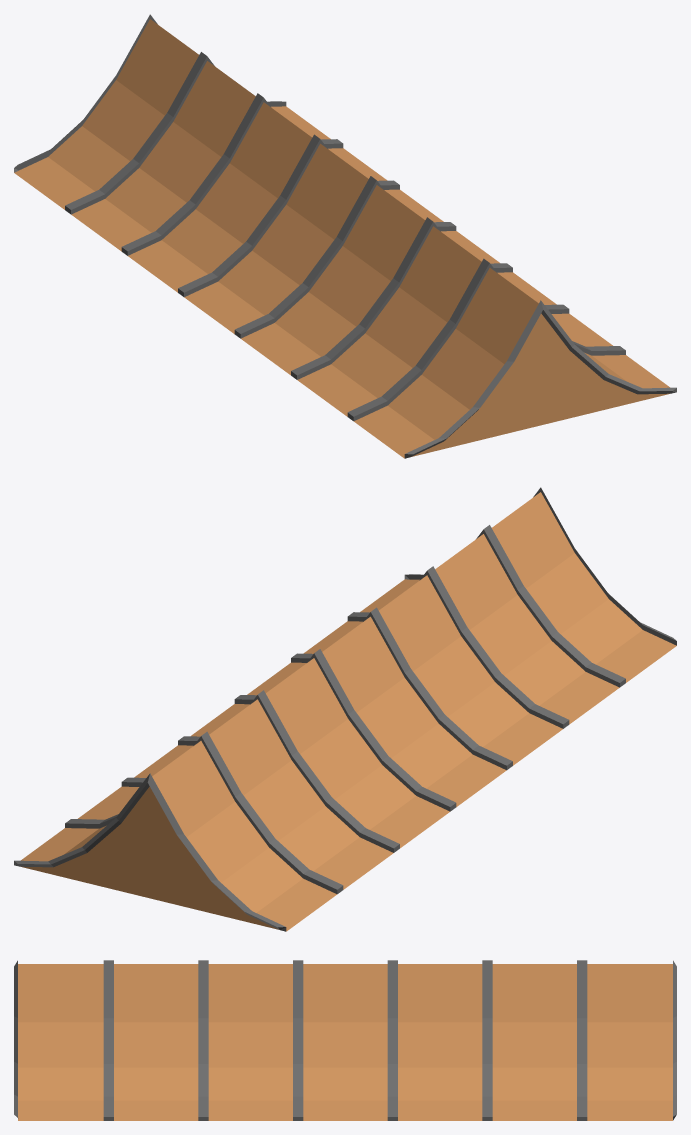
File: Farmi_Kasviurat_Verkko.fbx
The picture shows the model from 3 angles, top to bottom: view 1: azimuth 30°, elevation 25°; view 2: azimuth 150°, elevation 25°; view 3: azimuth 270°, elevation 25°; orthographic projection. The views are drawn at different scales.
Parts seen in each view (by area): view 1: Suojattu Ura; view 2: Suojattu Ura; view 3: Suojattu Ura.
Boxes of the visible parts, bbox=[...] form: Suojattu Ura: bbox=[14, 14, 676, 458]; Suojattu Ura: bbox=[14, 487, 676, 931]; Suojattu Ura: bbox=[14, 960, 676, 1120].
Size of the model in its own units: 154 by 67.83 by 388.
